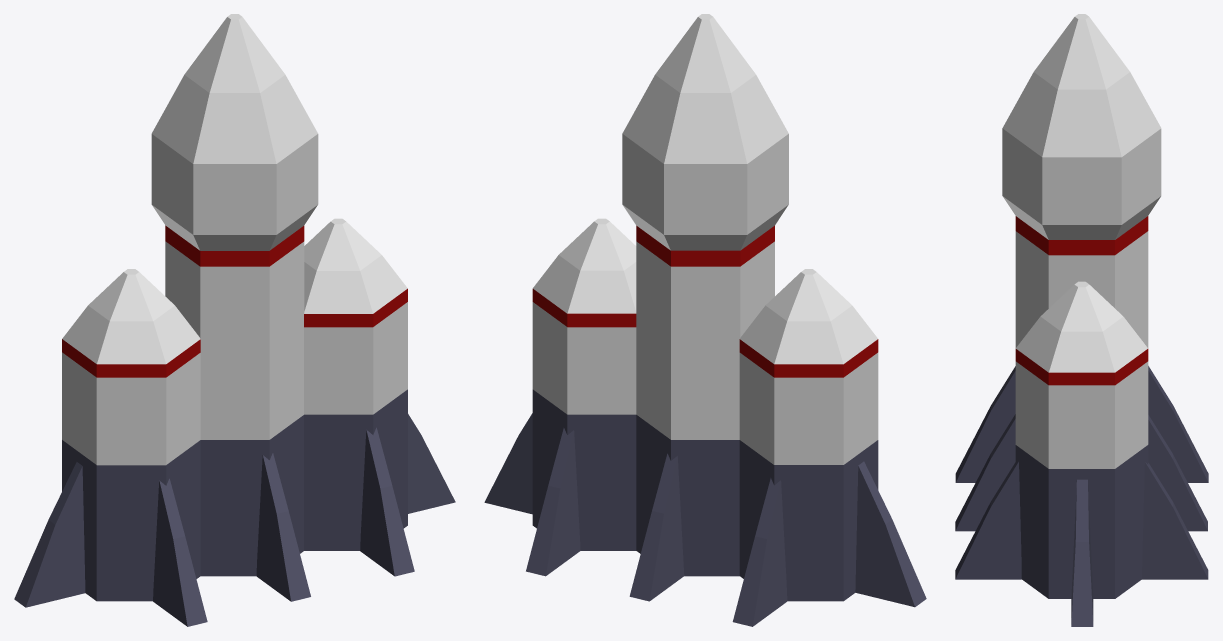
Rendered from RocketPrototype.glb.
The picture shows the model from 3 angles, left to right: view 1: azimuth 30°, elevation 25°; view 2: azimuth 150°, elevation 25°; view 3: azimuth 270°, elevation 25°; orthographic projection. The views are drawn at different scales.
Parts seen in each view (by area): view 1: Rocket; view 2: Rocket; view 3: Rocket.
Boxes of the visible parts, x1,y1,x2,y2 form: Rocket: [14, 14, 455, 626]; Rocket: [484, 14, 926, 626]; Rocket: [955, 14, 1208, 626].
Size of the model in its own units: 2.15 by 2.55 by 1.15.
